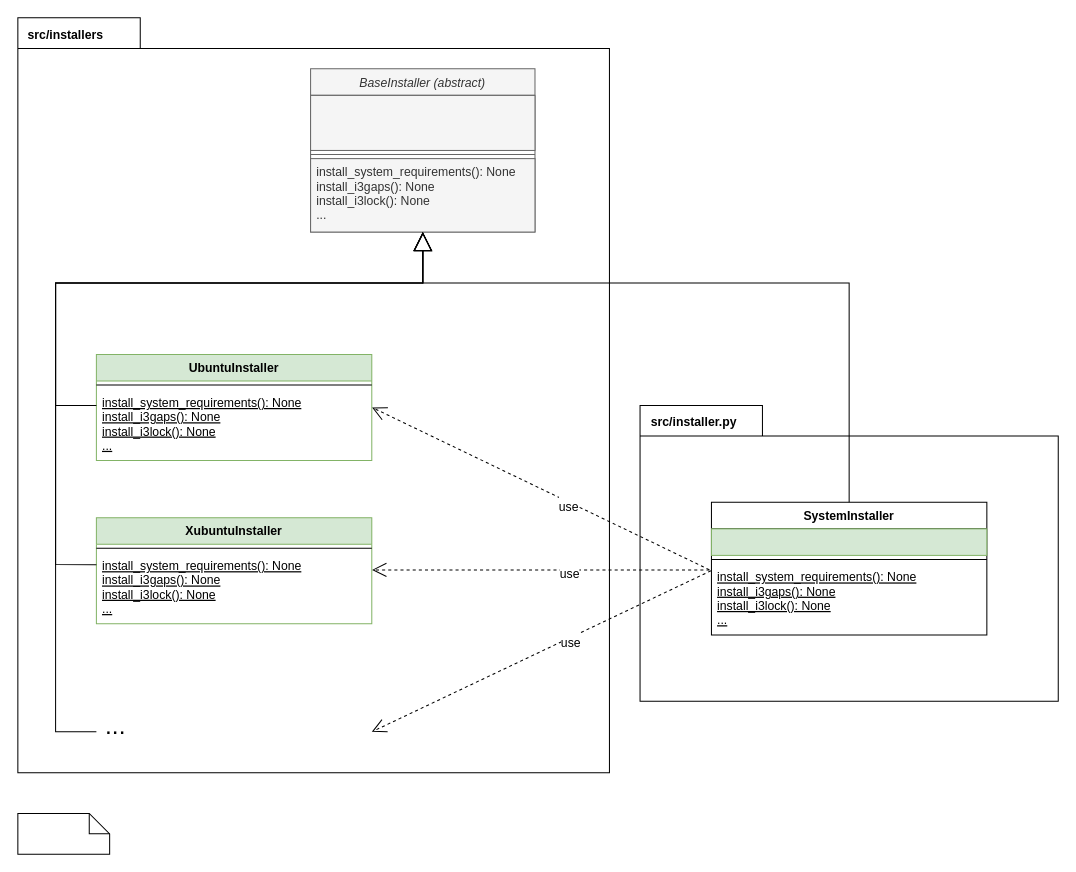
The diagram is 1076 pixels wide and 872 high, and some of its shapes have lost their labels. The centre of each missing label's shape, as x and y in pixels:
"+ DEPENDENCIES_PATH: Path + BASE_SETTINGS_PATH: Path + SETTINGS_PATH: Path" belongs at pixel 422 122.
"+ OS_INSTALLERS: Map[OS, BaseInstaller]" belongs at pixel 848 541.
"UML 2.0" belongs at pixel 63 833.
